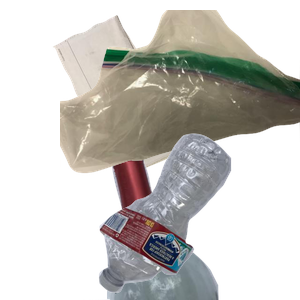glass: (83, 120, 294, 300)
paper: (51, 13, 230, 186)
plastic: (96, 131, 300, 300)
trash: (60, 10, 300, 176)
